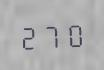seven: (41, 20, 62, 49)
two: (18, 21, 39, 50)
zero: (63, 19, 84, 48)
